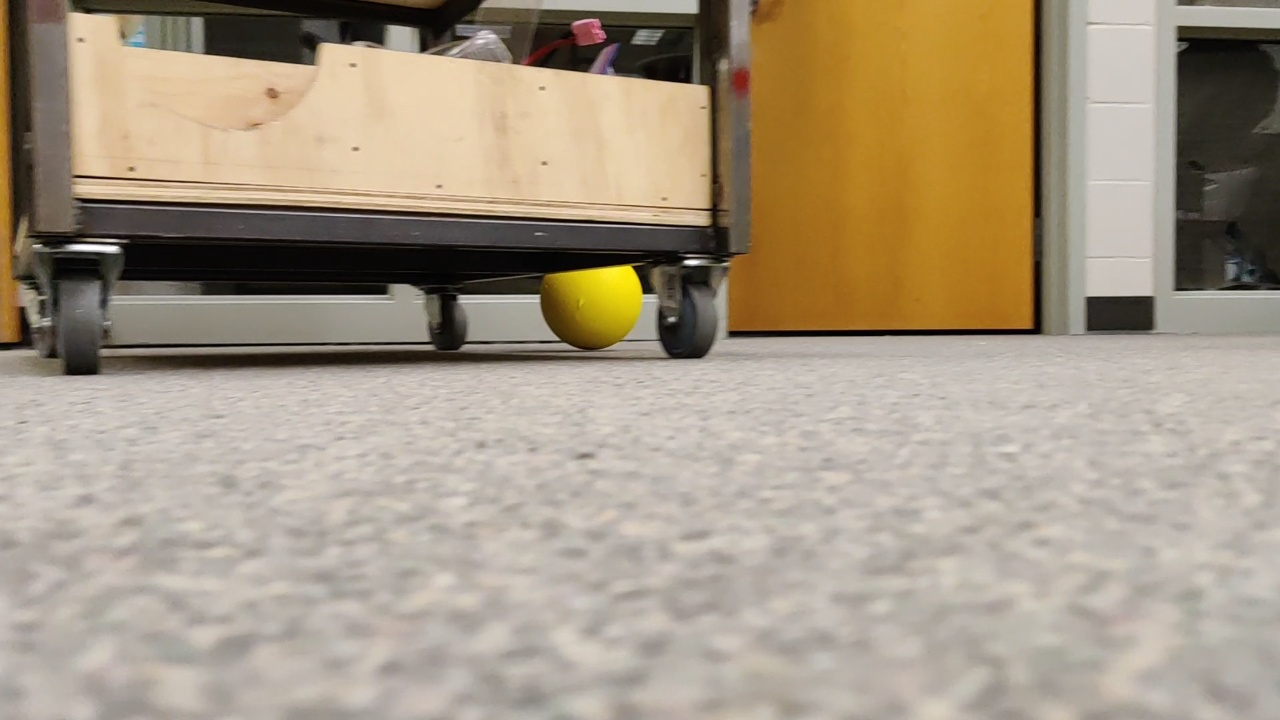Ball: (539, 243, 648, 369)
